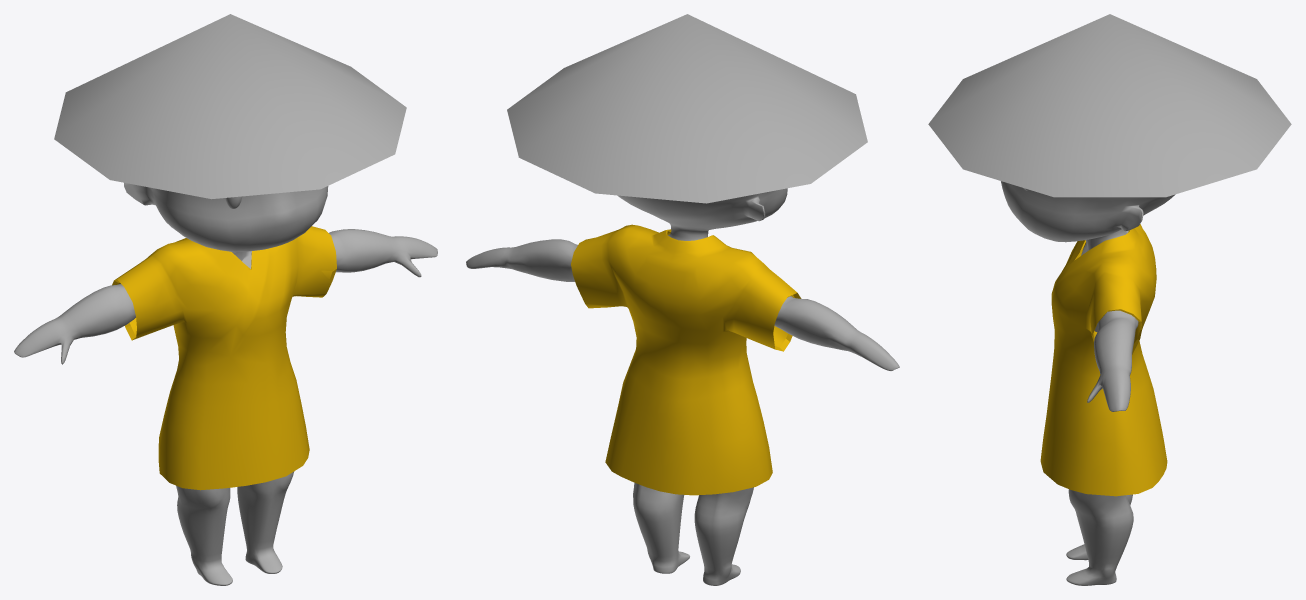
Rendered from Character_Base.fbx.
3 renders of one model, left to right at view 1: azimuth 30°, elevation 25°; view 2: azimuth 150°, elevation 25°; view 3: azimuth 270°, elevation 25°, orthographic. The views are drawn at different scales.
Parts seen in each view (by area): view 1: pPlane10; view 2: pPlane10; view 3: pPlane10.
Part boxes in pixels (x1=…): pPlane10: x1=14, y1=14, x2=437, y2=585; pPlane10: x1=466, y1=14, x2=899, y2=585; pPlane10: x1=928, y1=14, x2=1291, y2=585.
Size of the model in its own units: 59.17 by 73.56 by 43.66.
